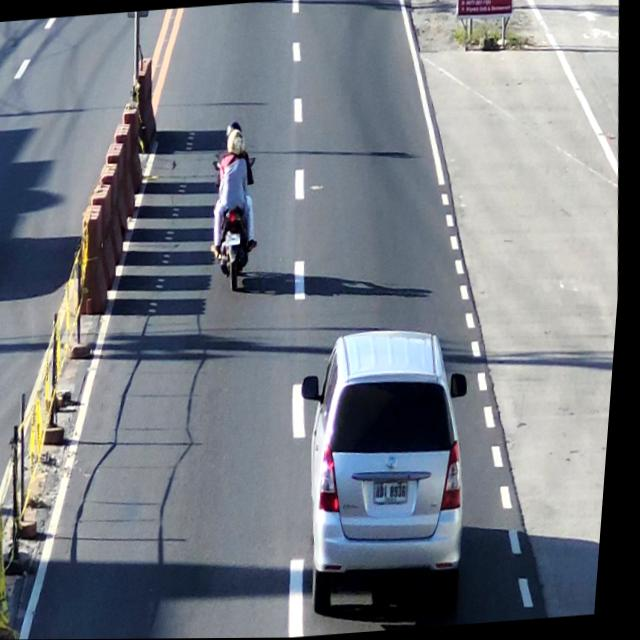Car: (302, 320, 488, 604)
License-Plate: (377, 474, 421, 509), (226, 226, 246, 248)
Motorcycle: (208, 119, 266, 294)
